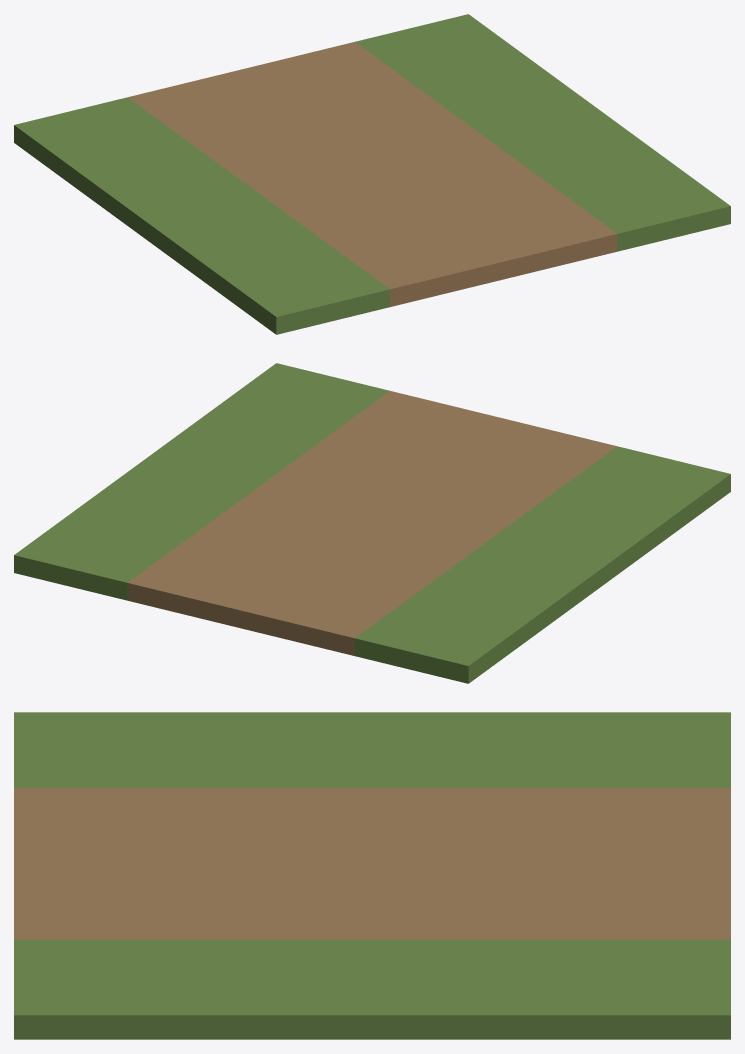
Rendered from Road_1Lane_Dirt_NoSidewalk_Straight_8m.glb.
3 views of the same model, one above another, from view 1: azimuth 30°, elevation 25°; view 2: azimuth 150°, elevation 25°; view 3: azimuth 270°, elevation 25° (orthographic). The views are drawn at different scales.
Parts seen in each view (by area): view 1: Road_1Lane_Dirt_NoSidewalk_Straight_8m_Grass-edge, Road_1Lane_Dirt_NoSidewalk_Straight_8m_Dirt; view 2: Road_1Lane_Dirt_NoSidewalk_Straight_8m_Grass-edge, Road_1Lane_Dirt_NoSidewalk_Straight_8m_Dirt; view 3: Road_1Lane_Dirt_NoSidewalk_Straight_8m_Grass-edge, Road_1Lane_Dirt_NoSidewalk_Straight_8m_Dirt.
Boxes of the visible parts, left/top/right/bottom form: Road_1Lane_Dirt_NoSidewalk_Straight_8m_Grass-edge: left=14, top=14, right=730, bottom=334; Road_1Lane_Dirt_NoSidewalk_Straight_8m_Dirt: left=128, top=42, right=617, bottom=306; Road_1Lane_Dirt_NoSidewalk_Straight_8m_Grass-edge: left=14, top=363, right=730, bottom=683; Road_1Lane_Dirt_NoSidewalk_Straight_8m_Dirt: left=127, top=391, right=616, bottom=655; Road_1Lane_Dirt_NoSidewalk_Straight_8m_Grass-edge: left=14, top=712, right=730, bottom=1039; Road_1Lane_Dirt_NoSidewalk_Straight_8m_Dirt: left=14, top=788, right=730, bottom=939.
Size of the model in its own units: 8 by 0.3 by 8.
